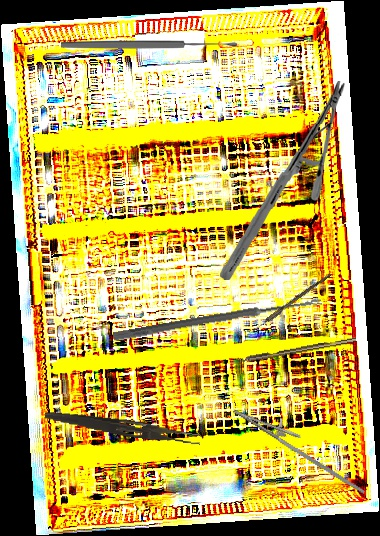Dressing Forceps: (43, 409, 202, 446)
Hook Surgical: (229, 336, 357, 366)
Needle Holder: (220, 77, 346, 284), (224, 398, 379, 495)
Surgical Spoon: (112, 295, 323, 343), (243, 271, 332, 340), (61, 40, 237, 50)
